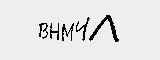В: (37, 21, 49, 41)
Л: (91, 13, 121, 45)
М: (61, 19, 77, 44)
Н: (48, 21, 62, 41)
Ч: (74, 15, 89, 43)
